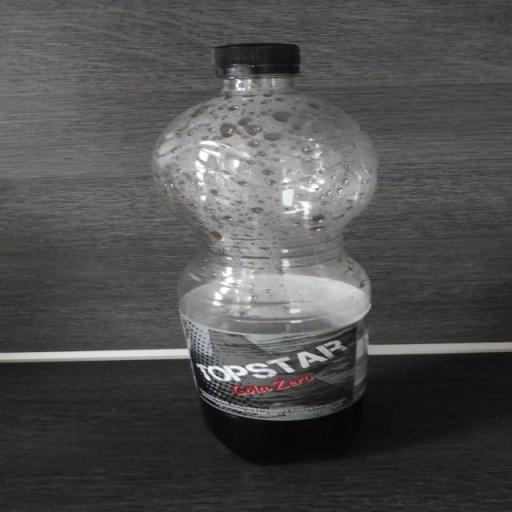plastic: (154, 40, 380, 436)
